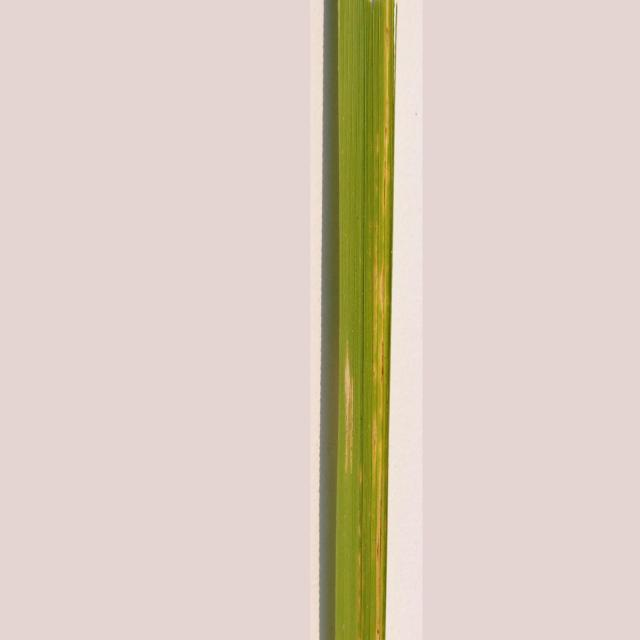Bacterial leaf blight: (337, 2, 397, 640)
